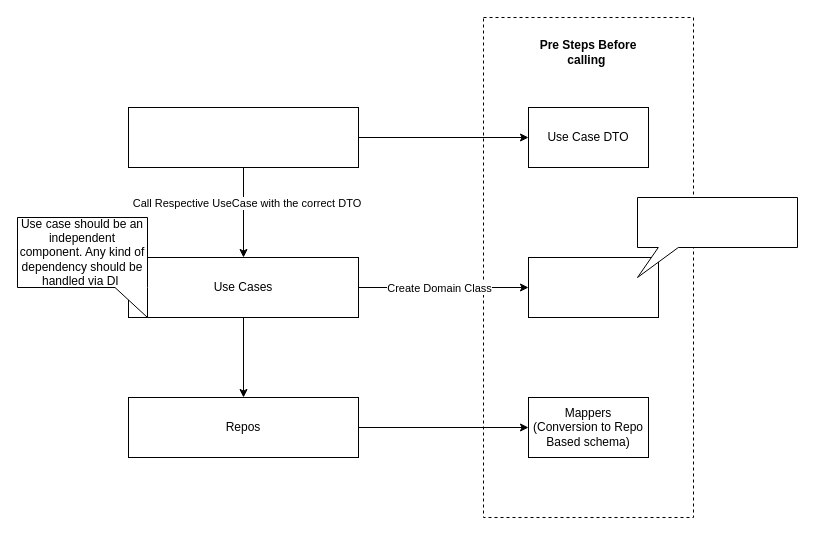
Some shapes in this 815 by 535 pixel diagram are drawn without their labels. The centre of each missing label's shape, as x and y in pixels:
"Domain (Holds Business Logic)" goes at point 593,287.
"Resolver / HTTP Controller" goes at point 243,137.
"Should be independent layer" goes at point 717,237.
